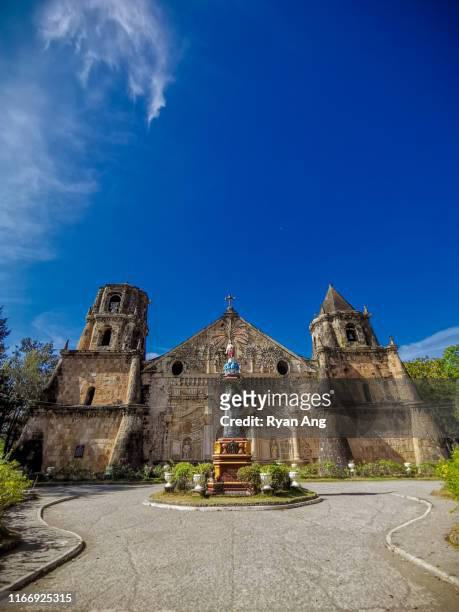miagao_church_miagao_iloilo: (14, 276, 455, 484)
